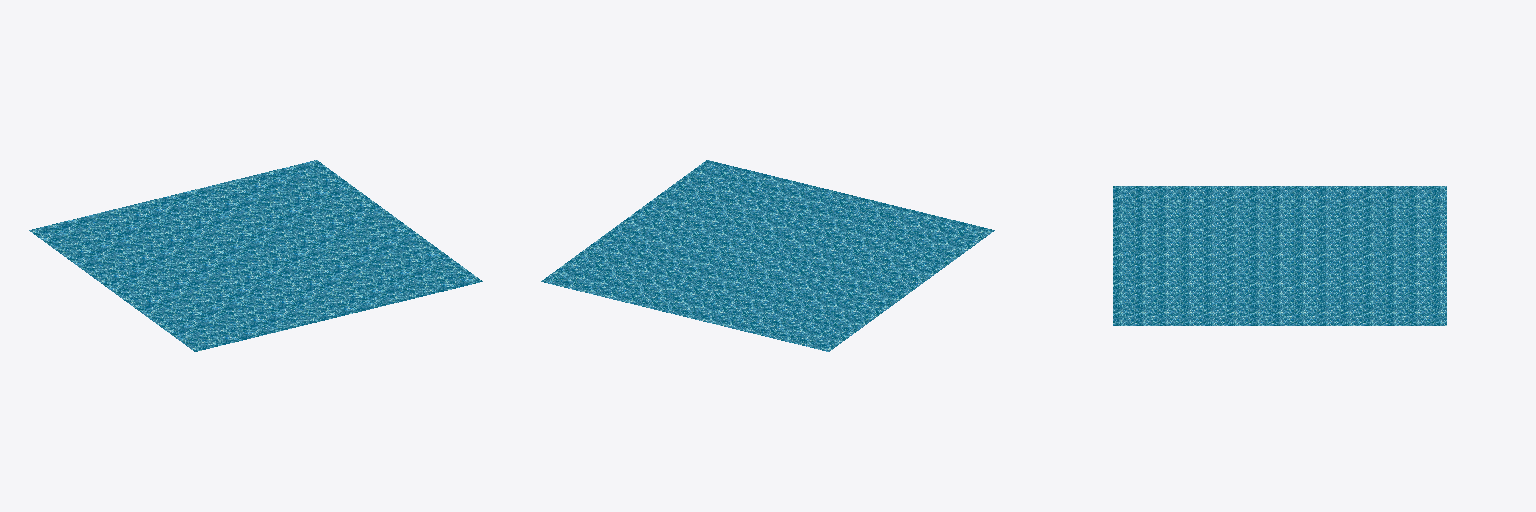
3 views of the same model, side by side, from view 1: azimuth 30°, elevation 25°; view 2: azimuth 150°, elevation 25°; view 3: azimuth 270°, elevation 25° (orthographic).
Parts seen in each view (by area): view 1: water_Grid.001; view 2: water_Grid.001; view 3: water_Grid.001.
Boxes of the visible parts, box(x1,y1,x2,y2) form: water_Grid.001: box(29, 160, 482, 351); water_Grid.001: box(541, 160, 994, 351); water_Grid.001: box(1113, 186, 1446, 325).
Size of the model in its own units: 200 by 0 by 200.
Materials: 1 (1 with a texture image).